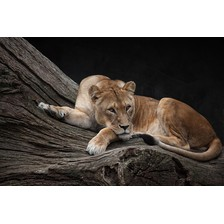lion: (41, 70, 223, 164)
